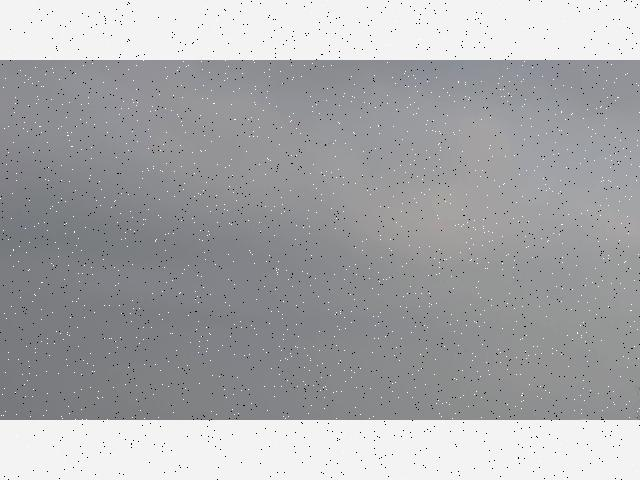Anti-Drone: (321, 141, 333, 147)
